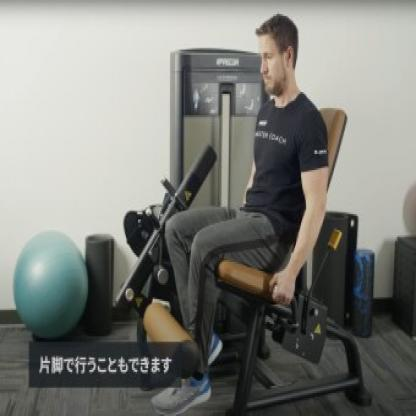leg extension: (114, 6, 374, 416)
